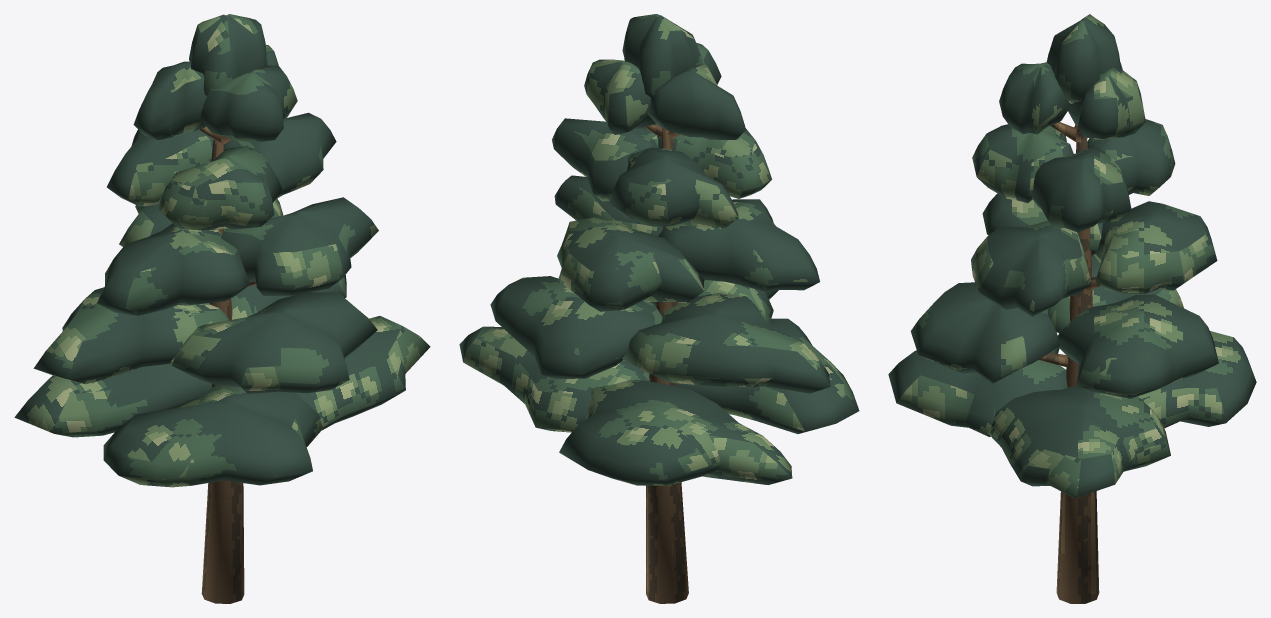
File: conifer-graphic.glb
The picture shows the model from 3 angles, left to right: view 1: azimuth 30°, elevation 25°; view 2: azimuth 150°, elevation 25°; view 3: azimuth 270°, elevation 25°; orthographic projection.
Parts seen in each view (by area): view 1: conifer-graphic runtime mesh; view 2: conifer-graphic runtime mesh; view 3: conifer-graphic runtime mesh.
Boxes of the visible parts, <box> form: conifer-graphic runtime mesh: <box>14,14,430,603</box>; conifer-graphic runtime mesh: <box>459,14,859,603</box>; conifer-graphic runtime mesh: <box>888,14,1256,603</box>.
Size of the model in its own units: 2.86 by 4.13 by 2.38.
Materials: 2 (2 with a texture image).
